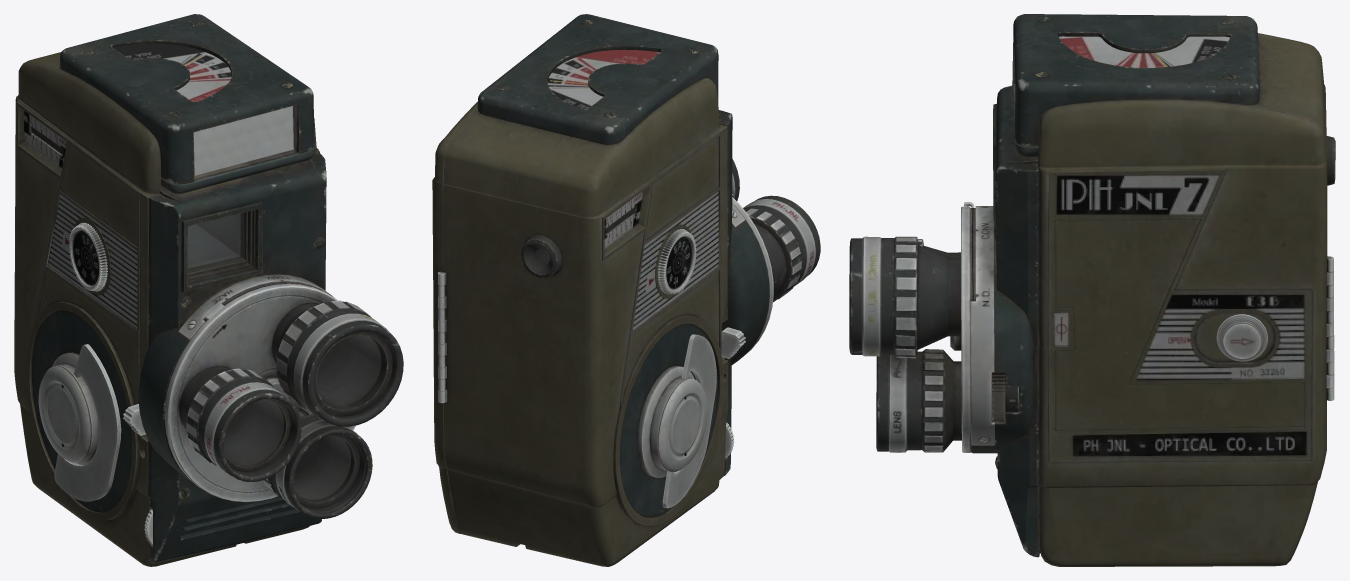
File: ph-movie-camera.glb
3 views of the same model, side by side, from view 1: azimuth 30°, elevation 25°; view 2: azimuth 150°, elevation 25°; view 3: azimuth 270°, elevation 25° (orthographic). The views are drawn at different scales.
Parts seen in each view (by area): view 1: vintage_video_camera; view 2: vintage_video_camera; view 3: vintage_video_camera.
Part boxes in pixels (<box>): vintage_video_camera: <box>14,14,403,566</box>; vintage_video_camera: <box>432,14,820,566</box>; vintage_video_camera: <box>849,14,1335,566</box>.
Bounding box in the file's own units: 0.0712 × 0.145 × 0.1326.
2 materials, 1 textured.
